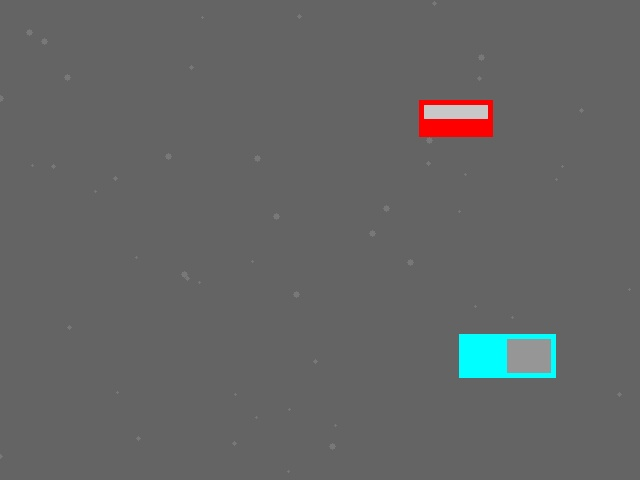car: (419, 100, 492, 136)
truck: (459, 334, 555, 377)
